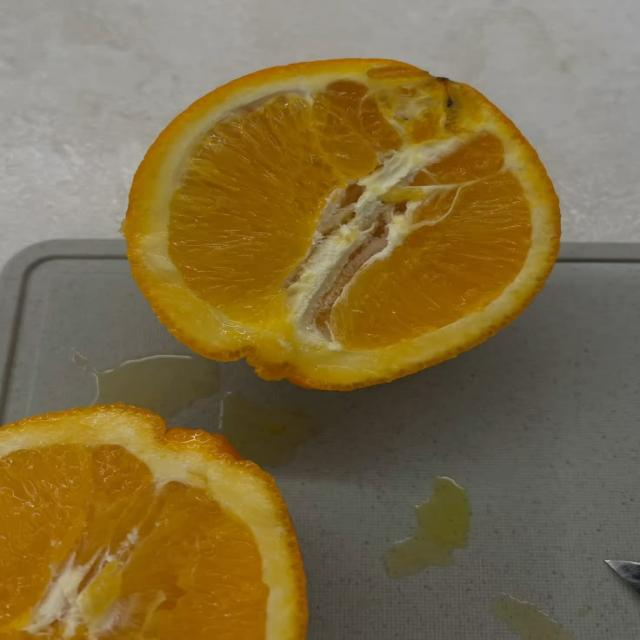orange: (124, 60, 559, 388), (0, 405, 306, 639)
